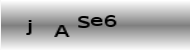6: (105, 14, 117, 28)
A: (52, 23, 70, 38)
S: (77, 15, 91, 29)
e: (90, 16, 104, 27)
j: (25, 18, 33, 36)
